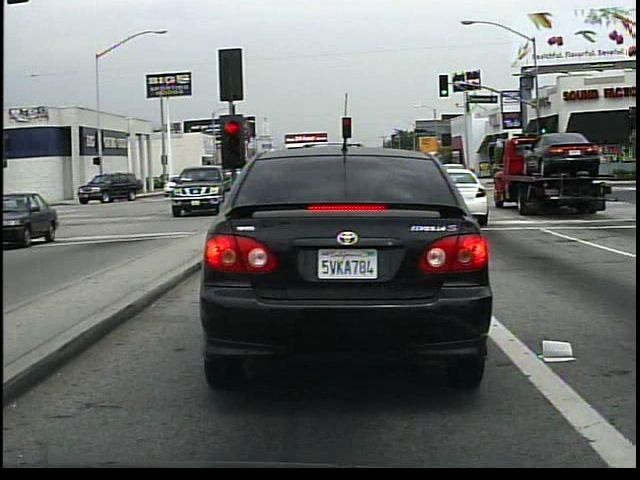person: (180, 173, 201, 198)
